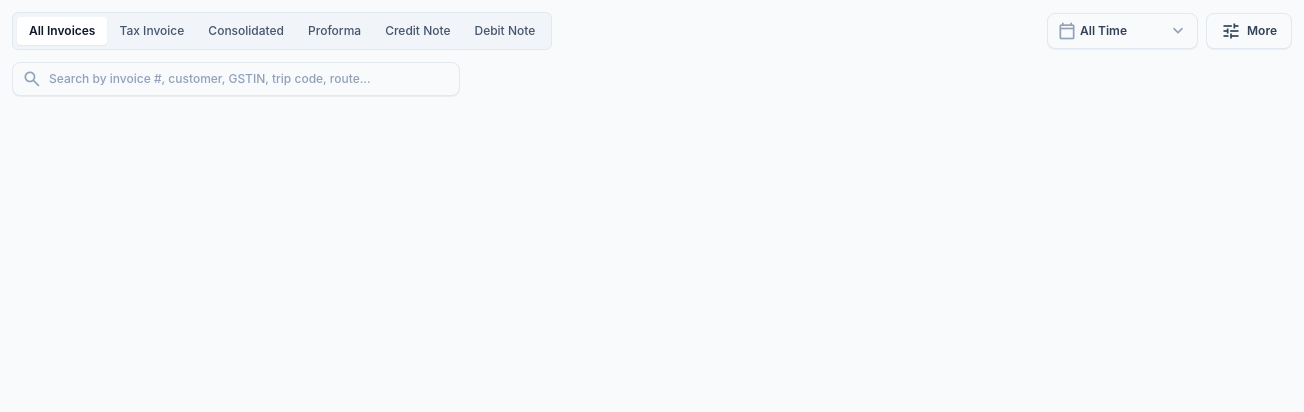
InvoiceToolbar › opens the More Filters dropdown
What coordinates should you click on to do the following:
click the button with aria-label "More Filters"
I would click on:
 (1249, 31)
Its box is x1=1206 y1=13 x2=1292 y2=49.
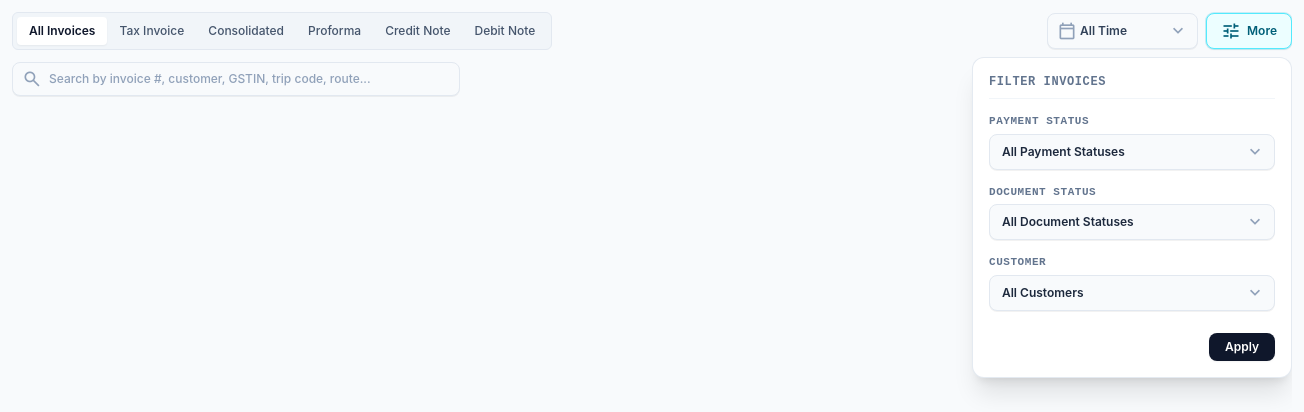
Now the button with aria-label "More Filters" is expanded, box x1=1206 y1=13 x2=1292 y2=49
Now the text "Filter Invoices" is shown, box x1=989 y1=74 x2=1106 y2=90
